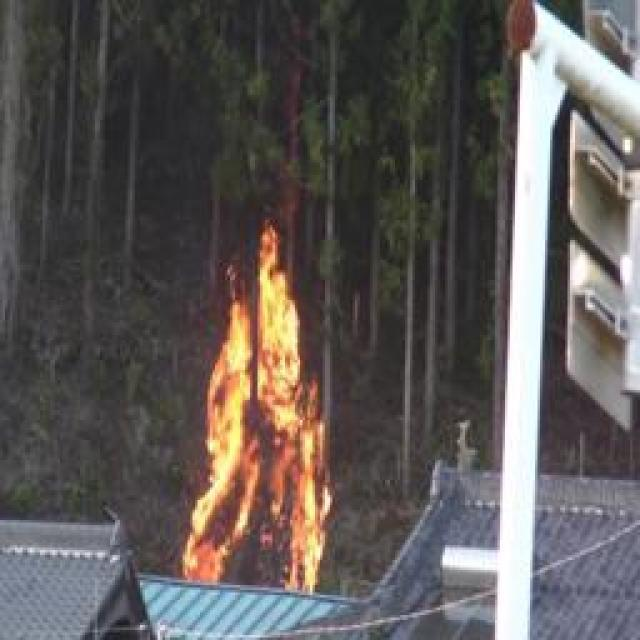Fire: (188, 244, 336, 596)
